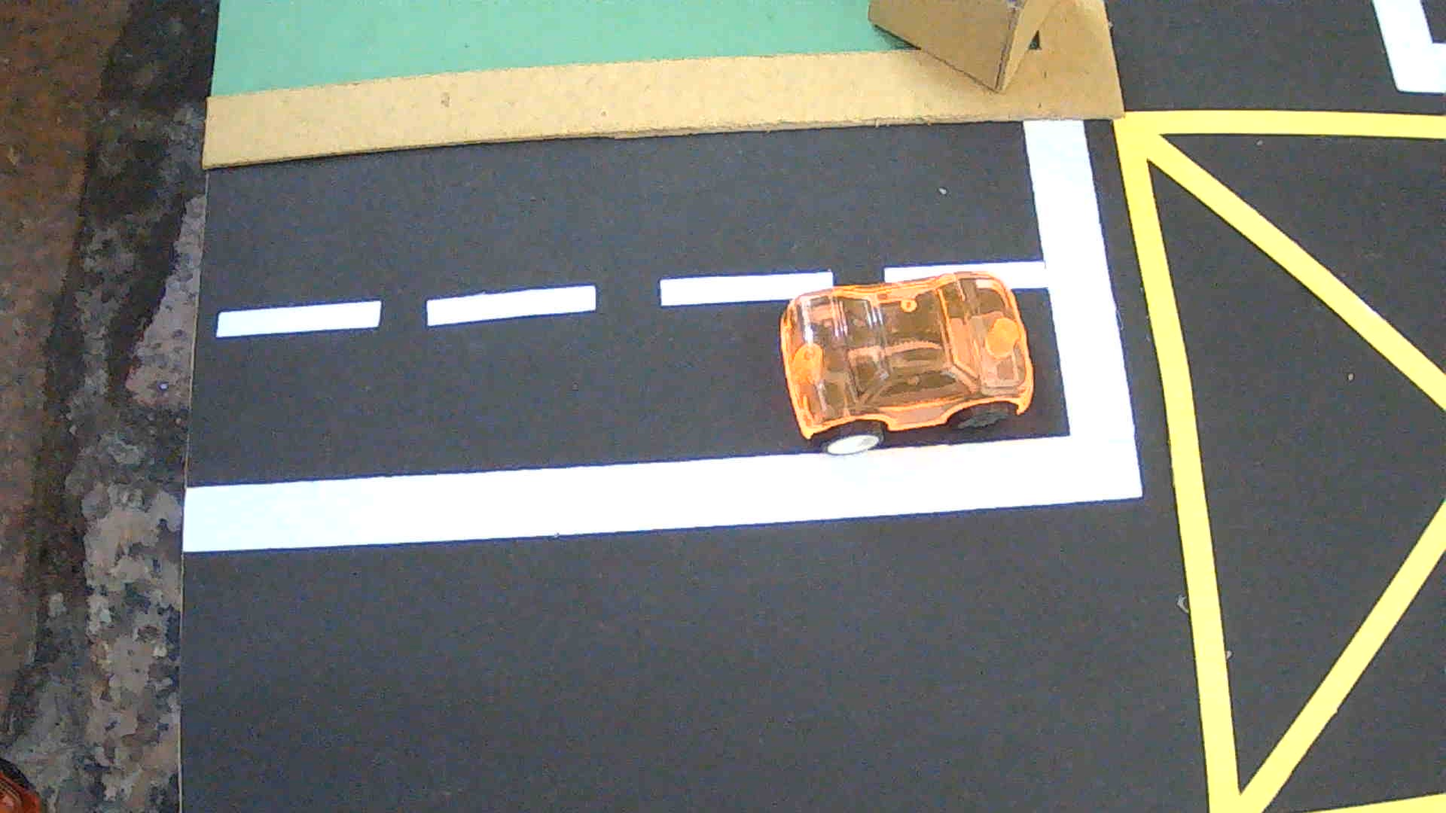Mobil orange: (779, 272, 1034, 455)
